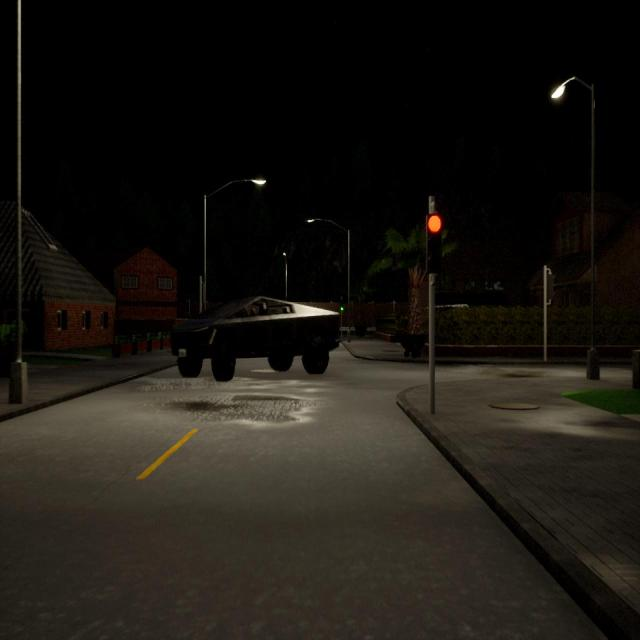Vehicle: (171, 296, 339, 381)
traffic_light: (424, 215, 442, 274), (547, 275, 555, 300), (340, 298, 344, 312)
